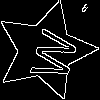W: (20, 25, 80, 83)
